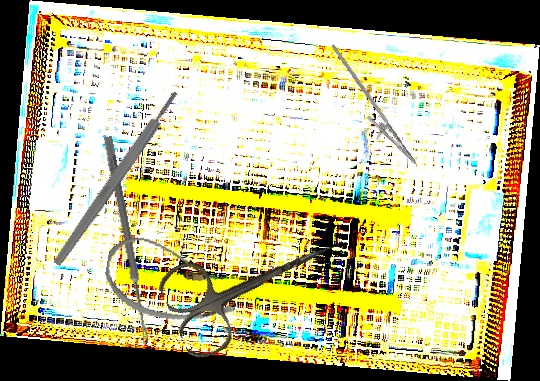Cannula: (99, 231, 245, 331)
Iris Scissors: (154, 205, 351, 364)
Needle Holder: (309, 43, 431, 173)
Scalpel Handle: (51, 89, 182, 268)
Surgical Spoon: (102, 135, 152, 345)
